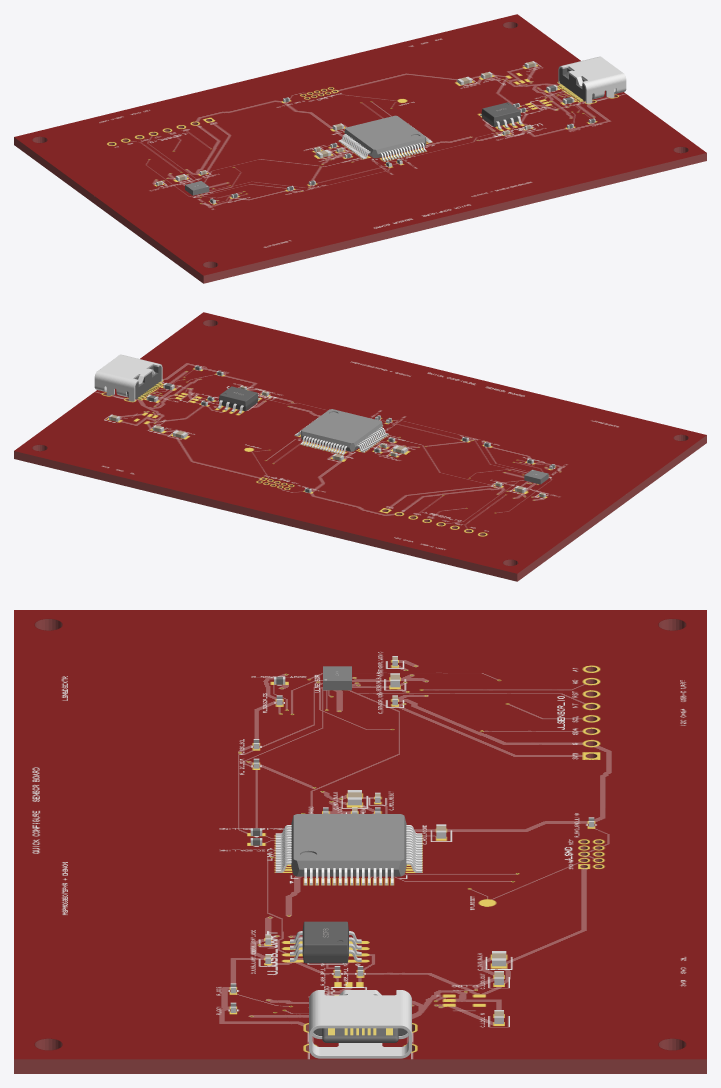
3 views of the same model, one above another, from view 1: azimuth 30°, elevation 25°; view 2: azimuth 150°, elevation 25°; view 3: azimuth 270°, elevation 25° (orthographic). The views are drawn at different scales.
Parts seen in each view (by area): view 1: Box0, U_MAIN, J_USB, U_USB_UART; view 2: Box0, U_MAIN, J_USB, U_USB_UART; view 3: Box0, U_MAIN, J_USB, U_USB_UART, U_SENSOR.
Boxes of the visible parts, x1=… form: Box0: x1=14, y1=14, x2=706, y2=283; U_MAIN: x1=338, y1=115, x2=432, y2=161; J_USB: x1=558, y1=56, x2=626, y2=103; U_USB_UART: x1=480, y1=102, x2=522, y2=129; Box0: x1=14, y1=312, x2=706, y2=581; U_MAIN: x1=294, y1=409, x2=388, y2=454; J_USB: x1=94, y1=354, x2=162, y2=401; U_USB_UART: x1=217, y1=386, x2=259, y2=413; Box0: x1=14, y1=610, x2=706, y2=1073; U_MAIN: x1=275, y1=814, x2=422, y2=885; J_USB: x1=309, y1=990, x2=411, y2=1058; U_USB_UART: x1=290, y1=921, x2=361, y2=963; U_SENSOR: x1=323, y1=666, x2=351, y2=690.
Size of the model in its own units: 92.04 by 4.65 by 60.
19 materials, 2 textured.
